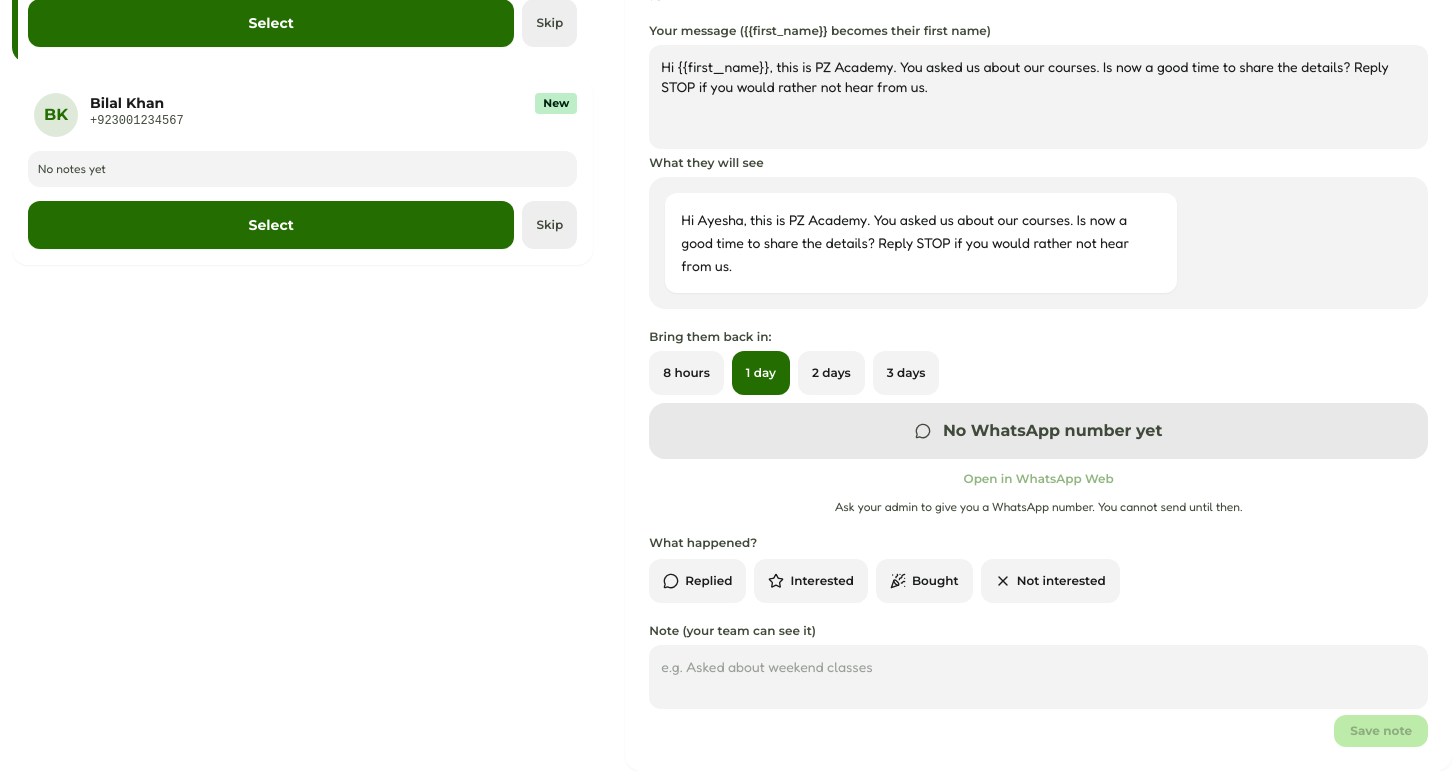
Test case: TodayQueue › logging an outcome removes the card and lowers the counter
(page scrolled)
Click the button "Replied": (698, 581) [649,559,746,603]
(page scrolled)
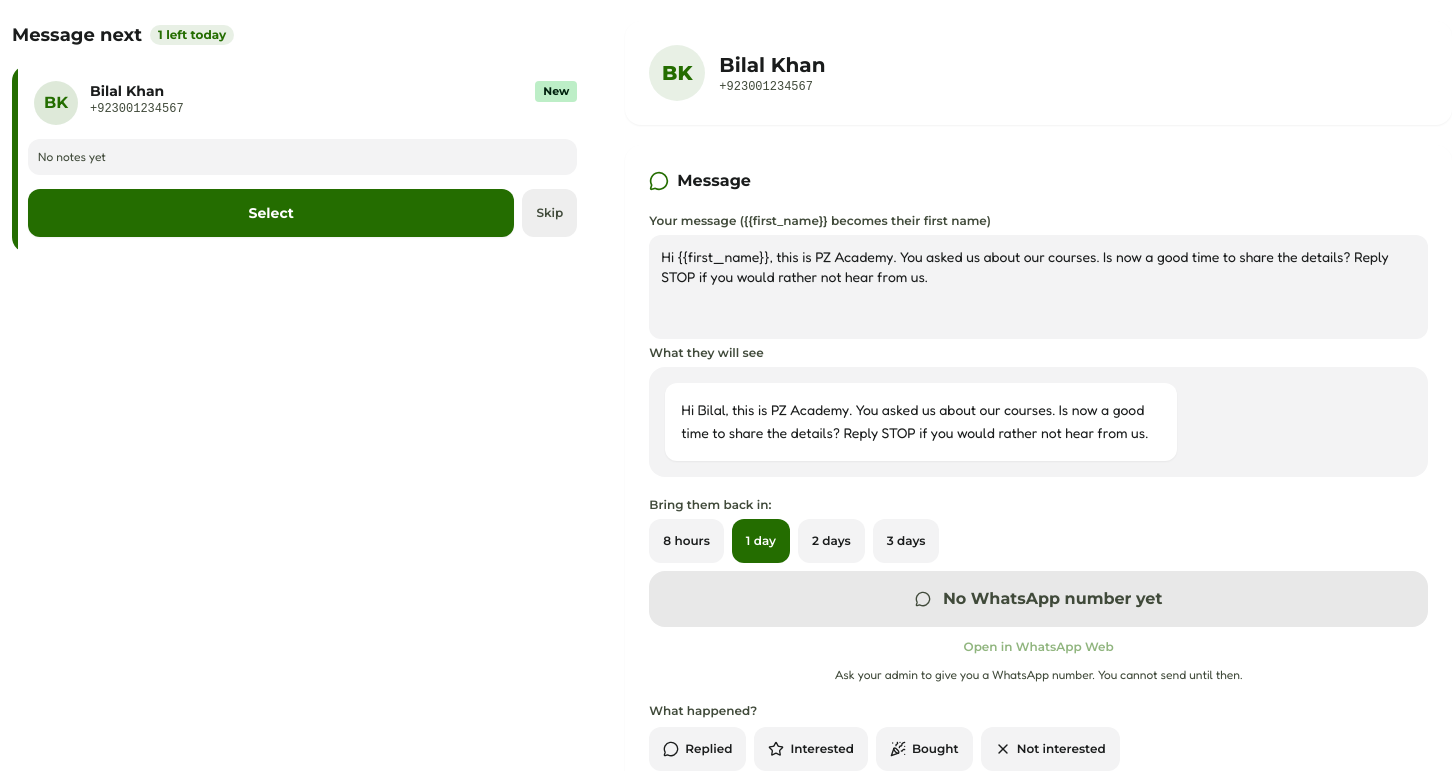
expect the text "1 left today" is shown: met, box [150,25,234,45]
expect the 1st heading "Bilal Khan" is shown: met, box [719,51,825,79]
